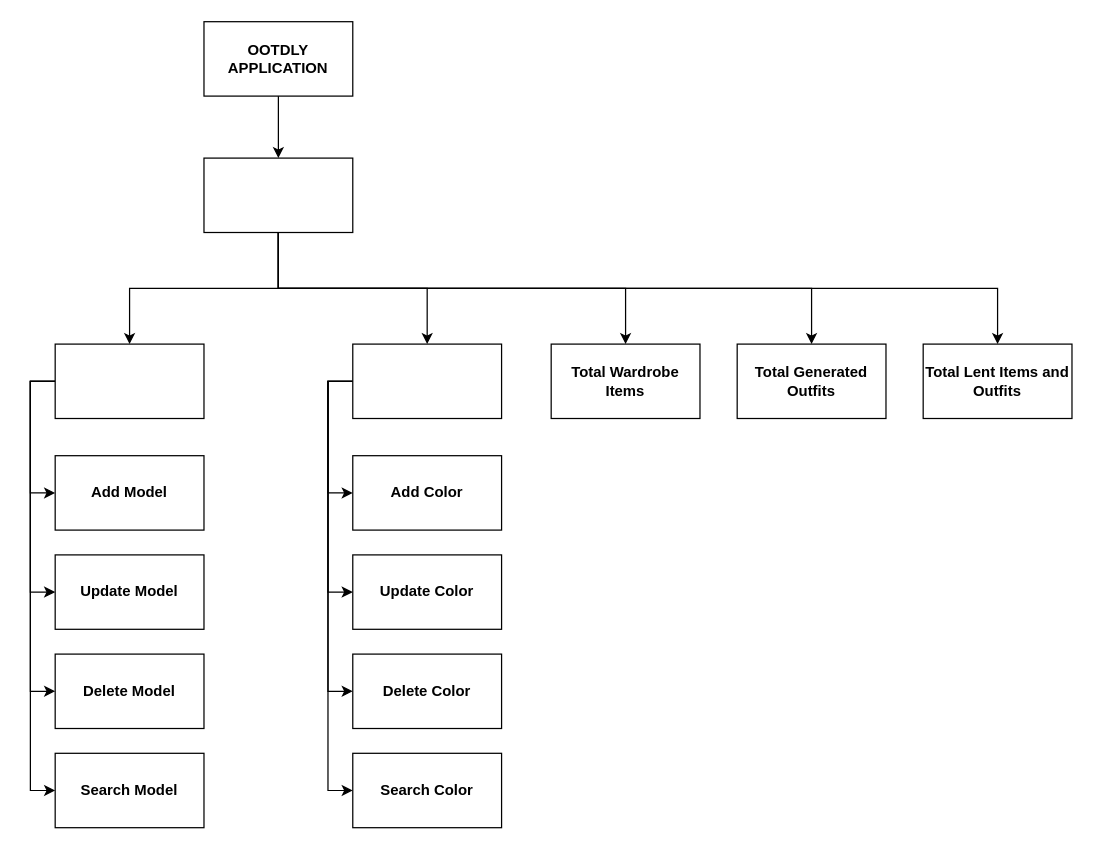
Some shapes in this 1094 by 849 pixel diagram are drawn without their labels. Each missing label, with the box of its shape:
Home Tab: (203, 157, 353, 232)
Total User Added Color: (352, 343, 502, 418)
Total User Added Model: (54, 343, 204, 418)
